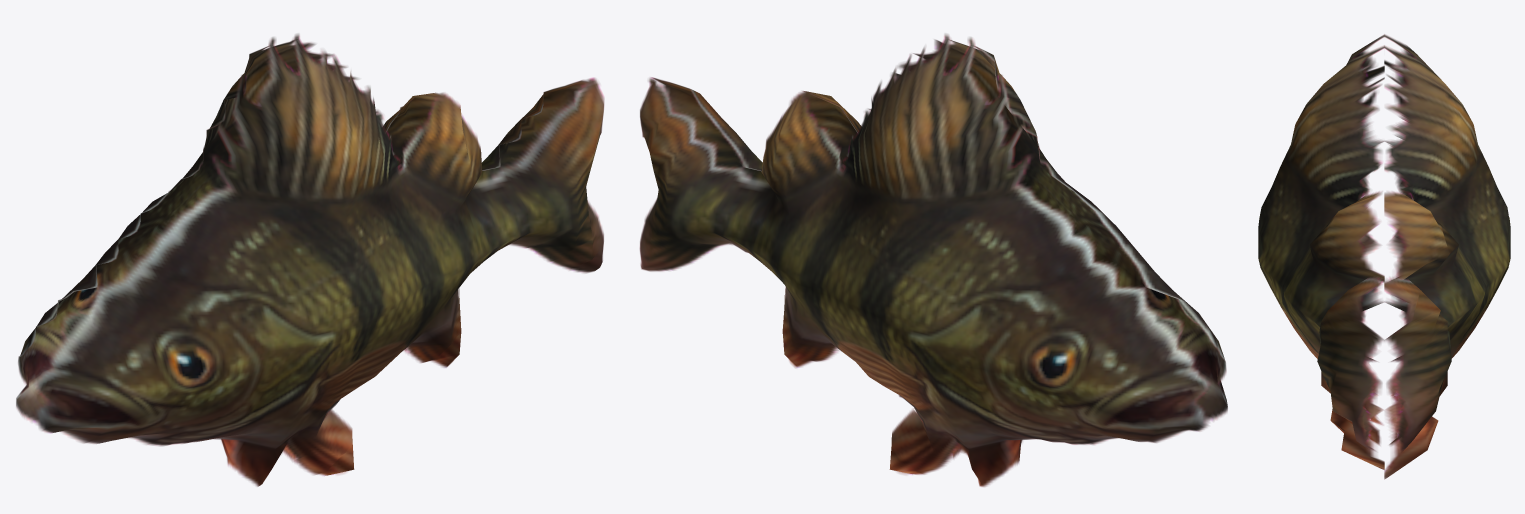
The model's file is fish_mudperch.glb.
The picture shows the model from 3 angles, left to right: view 1: azimuth 30°, elevation 25°; view 2: azimuth 150°, elevation 25°; view 3: azimuth 270°, elevation 25°; orthographic projection. The views are drawn at different scales.
Visible parts, largest first — view 1: fish_mudperch; view 2: fish_mudperch; view 3: fish_mudperch.
Part boxes in pixels (bbox=[...]): fish_mudperch: bbox=[16, 34, 604, 486]; fish_mudperch: bbox=[639, 34, 1227, 486]; fish_mudperch: bbox=[1258, 34, 1510, 479].
Size of the model in its own units: 0.45 by 0.3529 by 0.18.
1 material, 1 textured.
